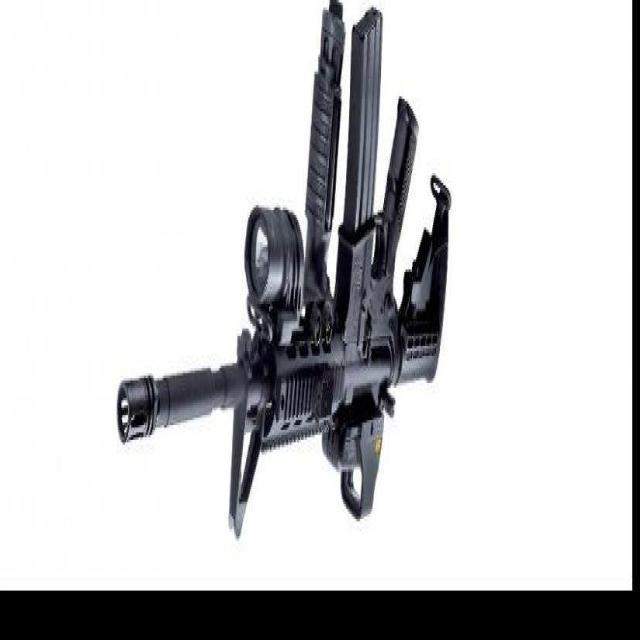Rifle: (116, 3, 454, 544)
